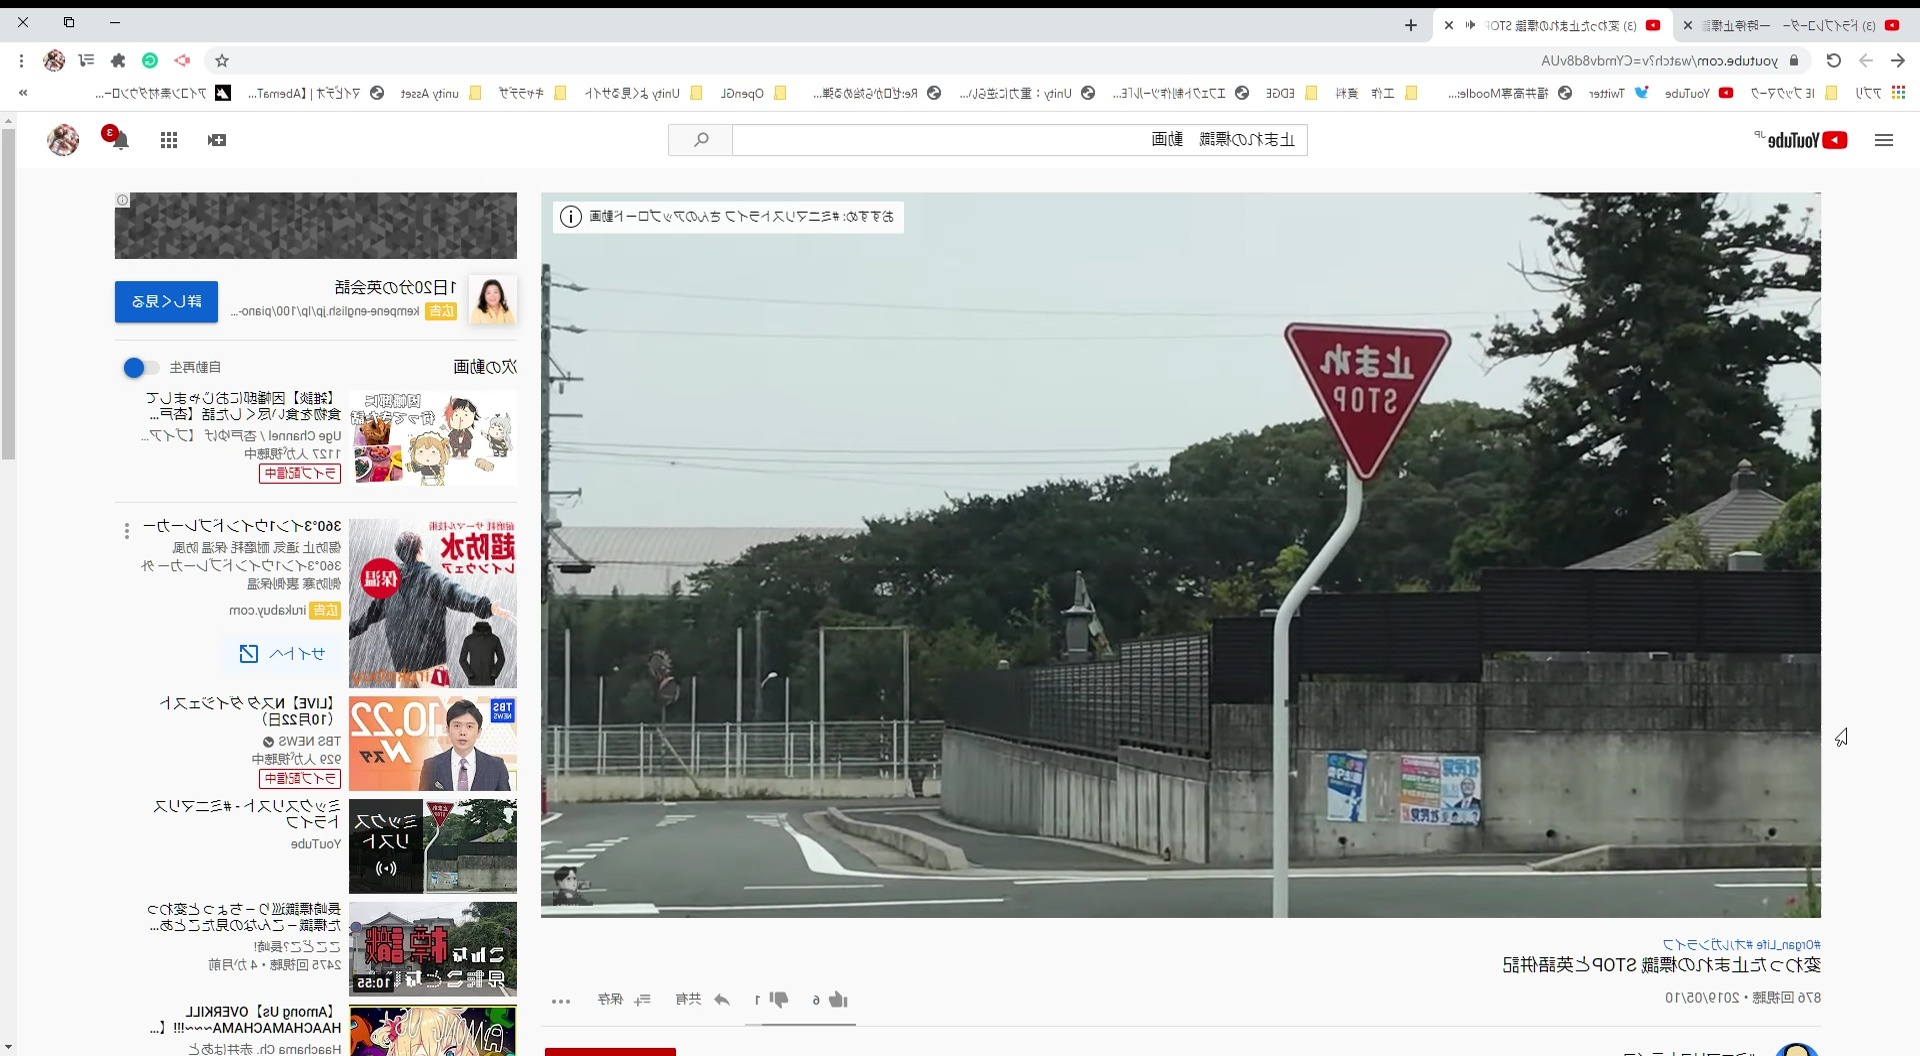Regulatory_sign_triangle: (1278, 306, 1461, 502)
